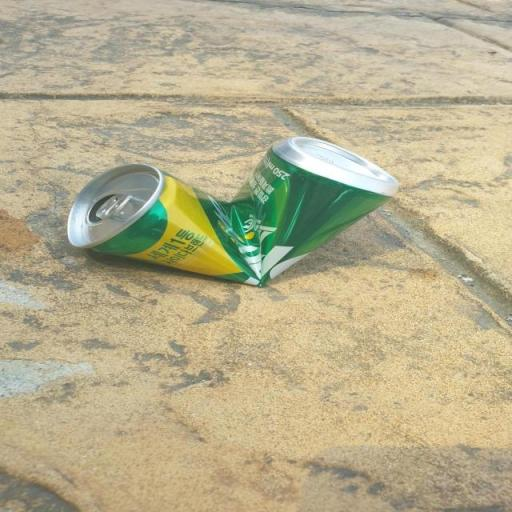metal: (45, 126, 398, 292)
